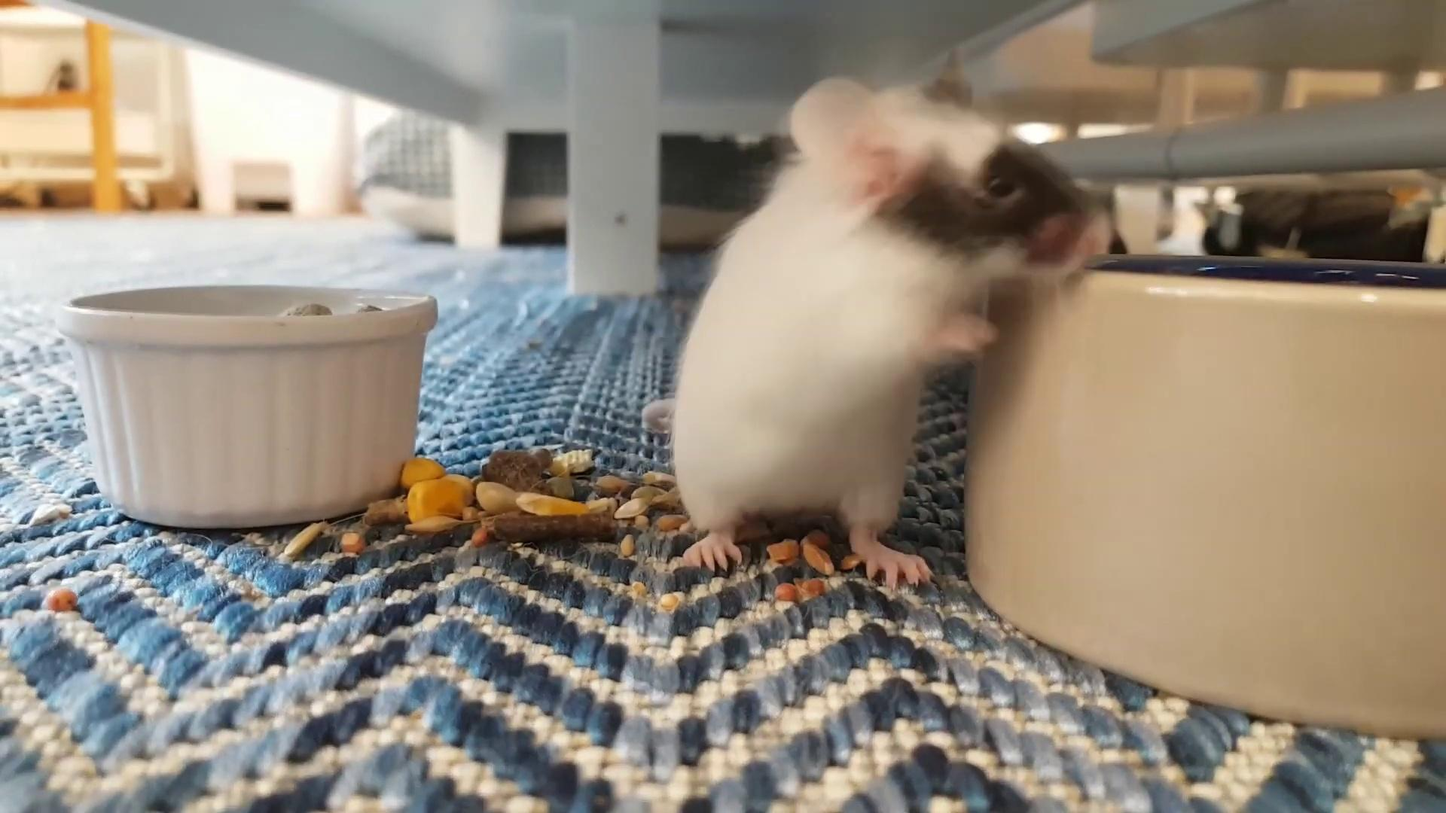rat: (673, 72, 1108, 586)
